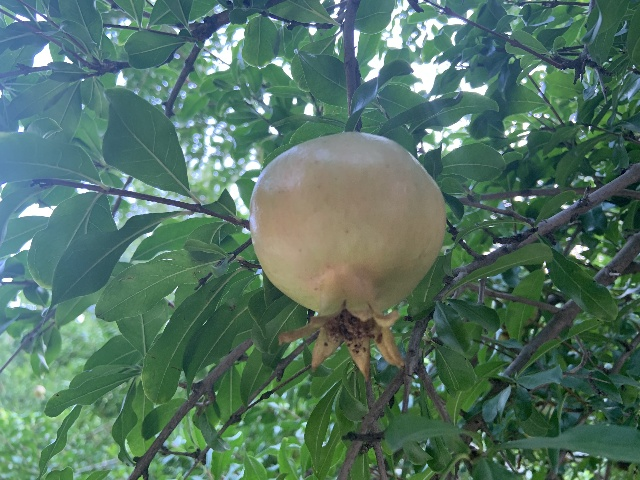mid-growth: (249, 133, 447, 383)
